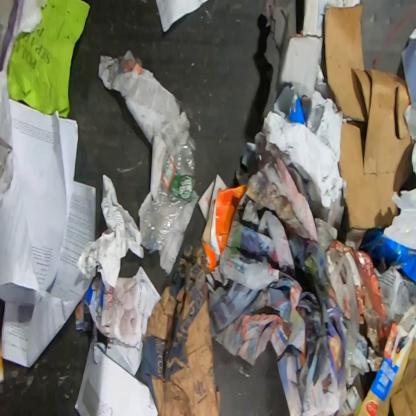cardboard: (324, 5, 416, 230), (323, 240, 389, 325), (356, 322, 415, 415), (280, 36, 324, 93), (390, 337, 415, 415)
rigid_plastic: (139, 135, 197, 254)
soft_plastic: (362, 228, 415, 288)
